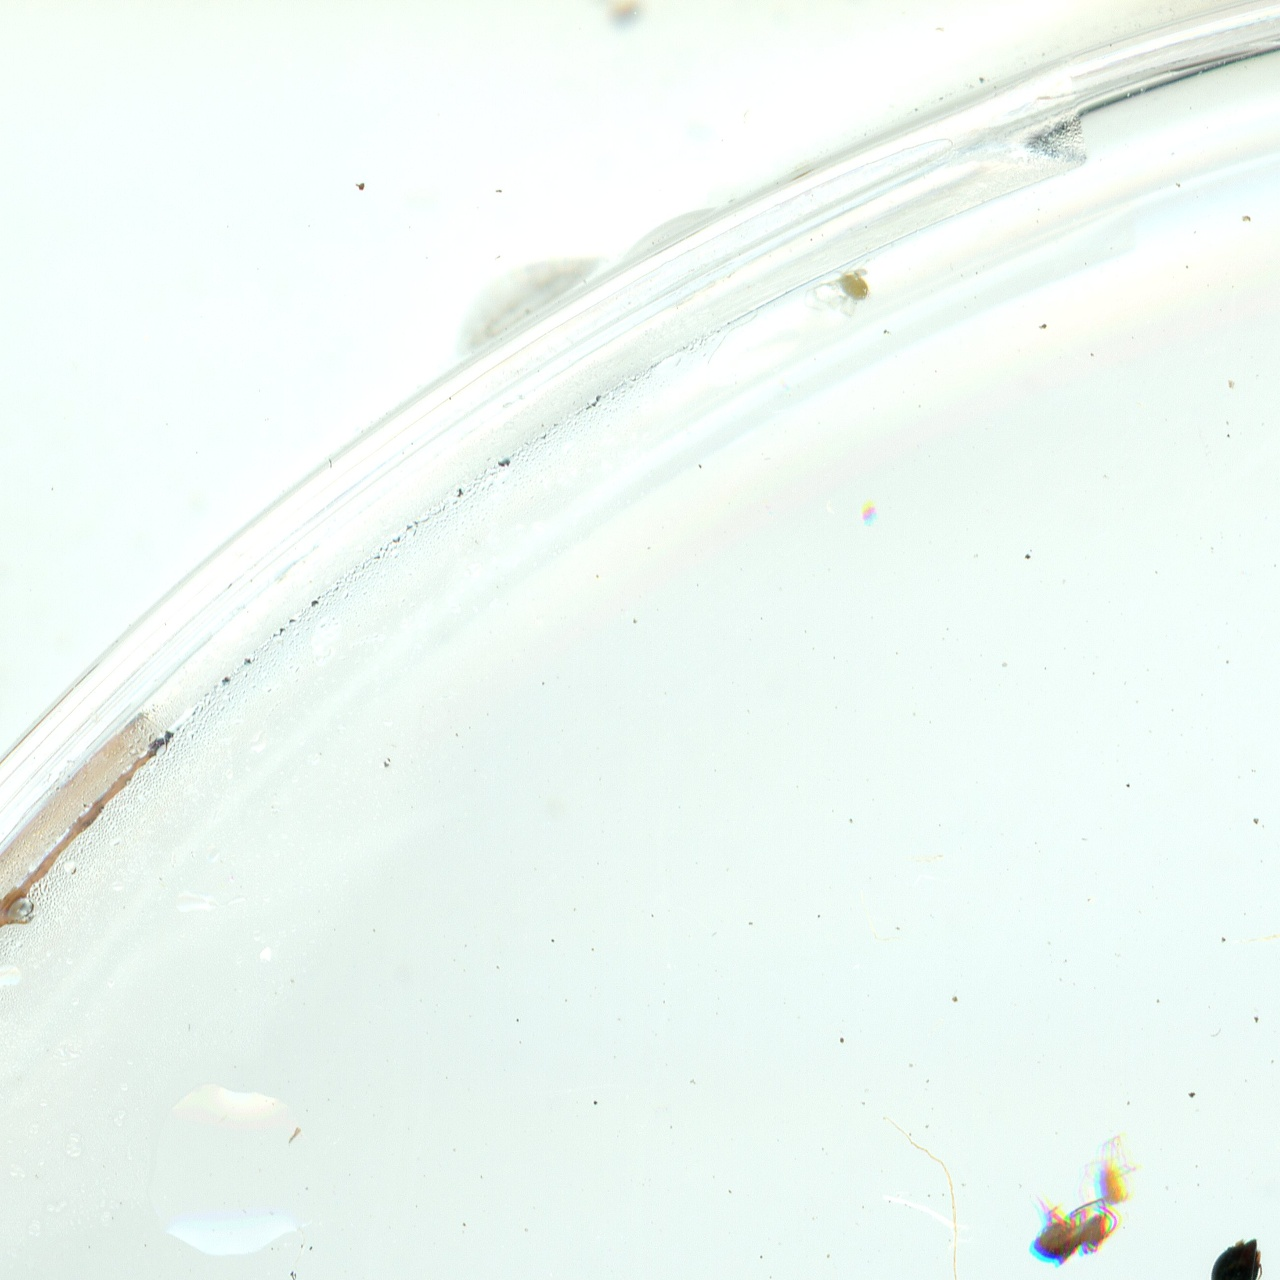arthropod: (1026, 1189, 1125, 1271), (1074, 1131, 1144, 1219), (800, 264, 872, 322), (1209, 1236, 1265, 1280)
